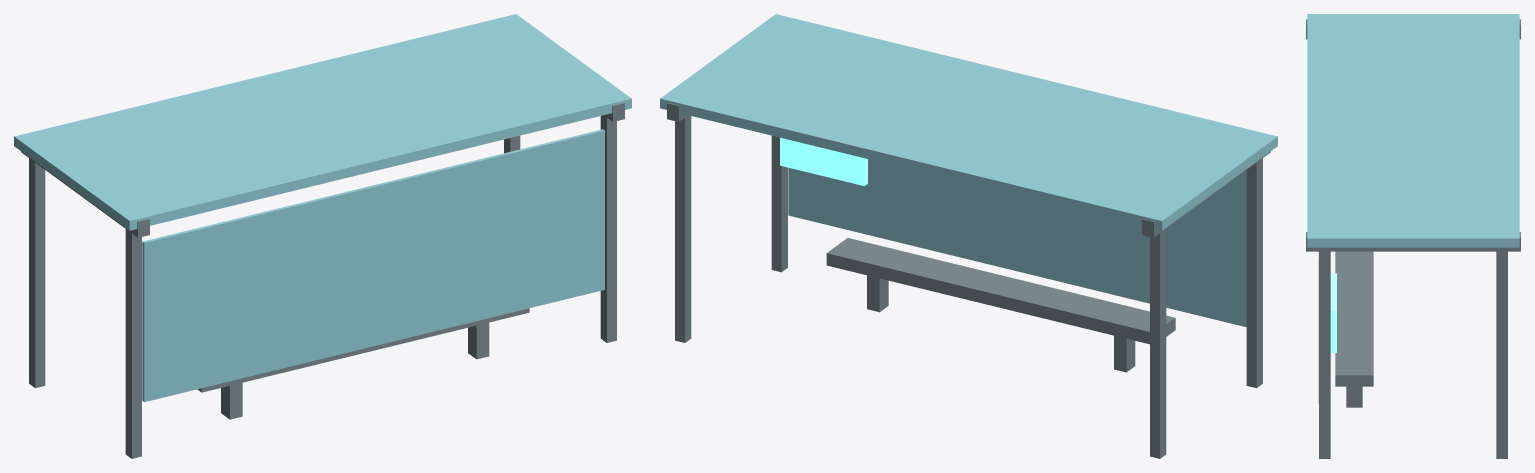
The model's file is prop_transit_shelter_LOD1.glb.
The picture shows the model from 3 angles, left to right: view 1: azimuth 30°, elevation 25°; view 2: azimuth 150°, elevation 25°; view 3: azimuth 270°, elevation 25°; orthographic projection. The views are drawn at different scales.
Parts seen in each view (by area): view 1: prop_transit_shelter__surface.001; view 2: prop_transit_shelter__surface.001; view 3: prop_transit_shelter__surface.001.
Part boxes in pixels (bbox=[...]): prop_transit_shelter__surface.001: bbox=[14, 14, 631, 458]; prop_transit_shelter__surface.001: bbox=[660, 14, 1277, 458]; prop_transit_shelter__surface.001: bbox=[1306, 14, 1520, 458].
Bounding box in the file's own units: 5.94 × 2.77 × 2.4.
